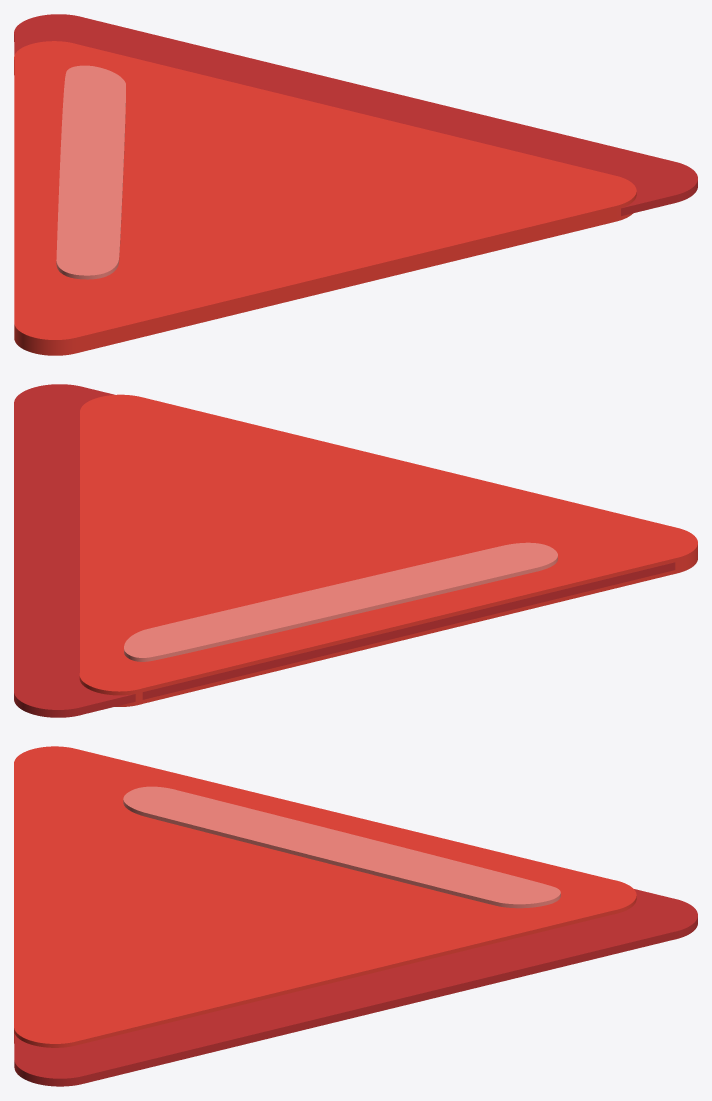
Rendered from emoji_u1f53a.glb.
3 views of the same model, one above another, from view 1: azimuth 30°, elevation 25°; view 2: azimuth 150°, elevation 25°; view 3: azimuth 270°, elevation 25° (orthographic).
Visible parts, largest first — view 1: emoji_u1f53a; view 2: emoji_u1f53a; view 3: emoji_u1f53a.
Part boxes in pixels (bbox=[...]): emoji_u1f53a: bbox=[14, 14, 697, 355]; emoji_u1f53a: bbox=[14, 384, 697, 717]; emoji_u1f53a: bbox=[14, 746, 697, 1086].
Bounding box in the file's own units: 0.018 × 0.0006 × 0.0158.
